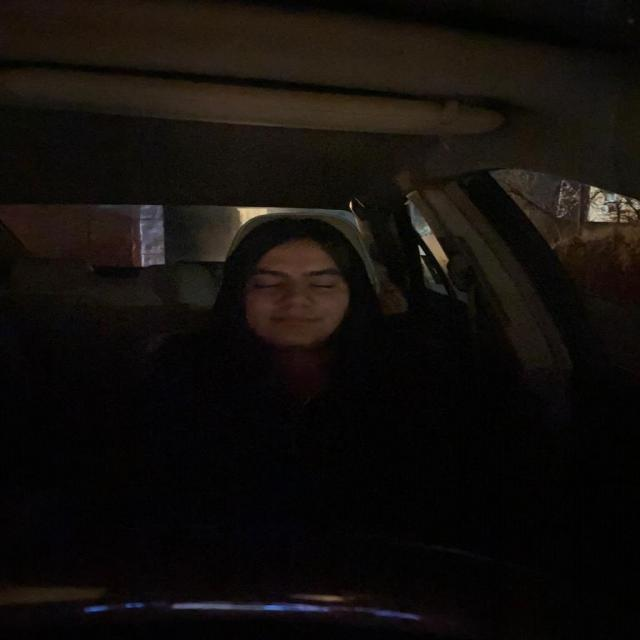drowsy: (225, 225, 382, 348)
